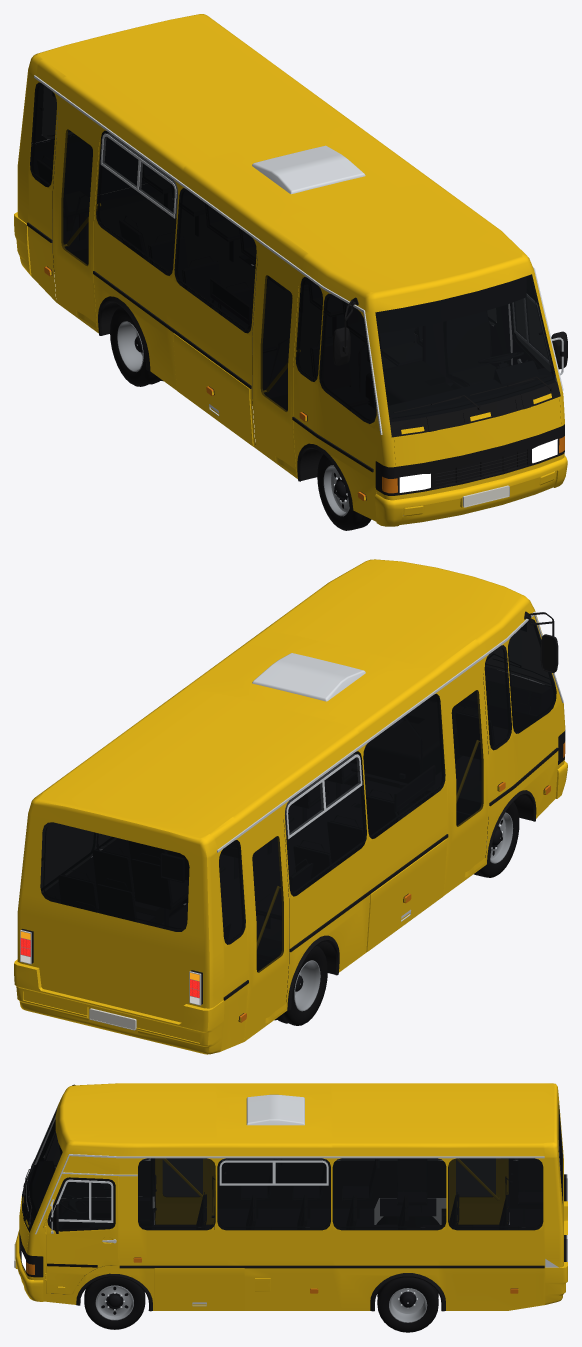
Rendered from car_bogdan.glb.
The picture shows the model from 3 angles, top to bottom: view 1: azimuth 30°, elevation 25°; view 2: azimuth 150°, elevation 25°; view 3: azimuth 270°, elevation 25°; orthographic projection. The views are drawn at different scales.
Parts seen in each view (by area): view 1: body, wheel_RR, wheel_FR; view 2: body, wheel_RR, wheel_FR, tail_lamps; view 3: body, wheel_RL, wheel_FL.
Part boxes in pixels (box(x1,y1,x2,y2)): body: box(14, 14, 567, 526); wheel_RR: box(110, 307, 163, 386); wheel_FR: box(317, 454, 371, 530); body: box(14, 559, 567, 1054); wheel_RR: box(274, 946, 327, 1025); wheel_FR: box(474, 802, 519, 877); tail_lamps: box(20, 930, 201, 1005); body: box(14, 1083, 567, 1311); wheel_RL: box(377, 1277, 438, 1332); wheel_FL: box(84, 1277, 145, 1329).
Size of what is drawn, in the model's own units: 2.42 by 2.76 by 7.1.
Materials: 14 (1 with a texture image).
